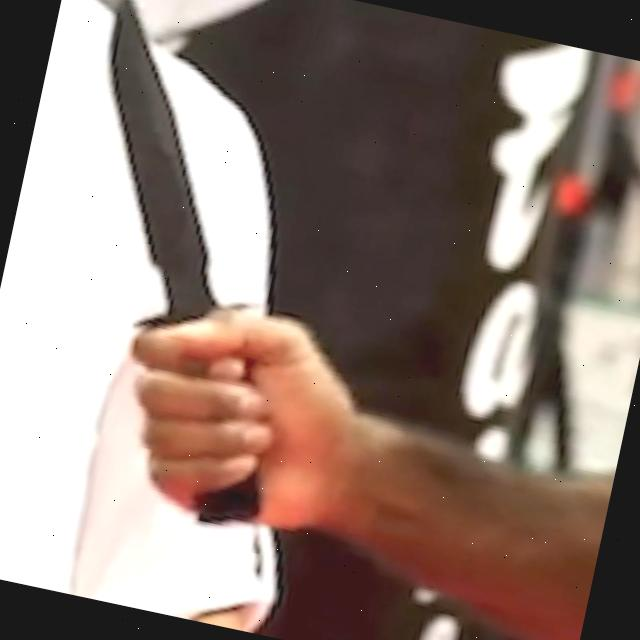suspicion: (0, 0, 640, 640), (43, 0, 295, 345)
